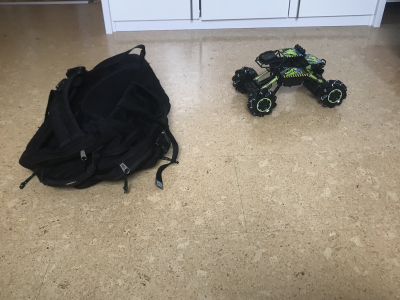remote control car: (230, 39, 348, 117)
